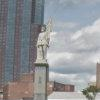Statue: (31, 14, 51, 78)
